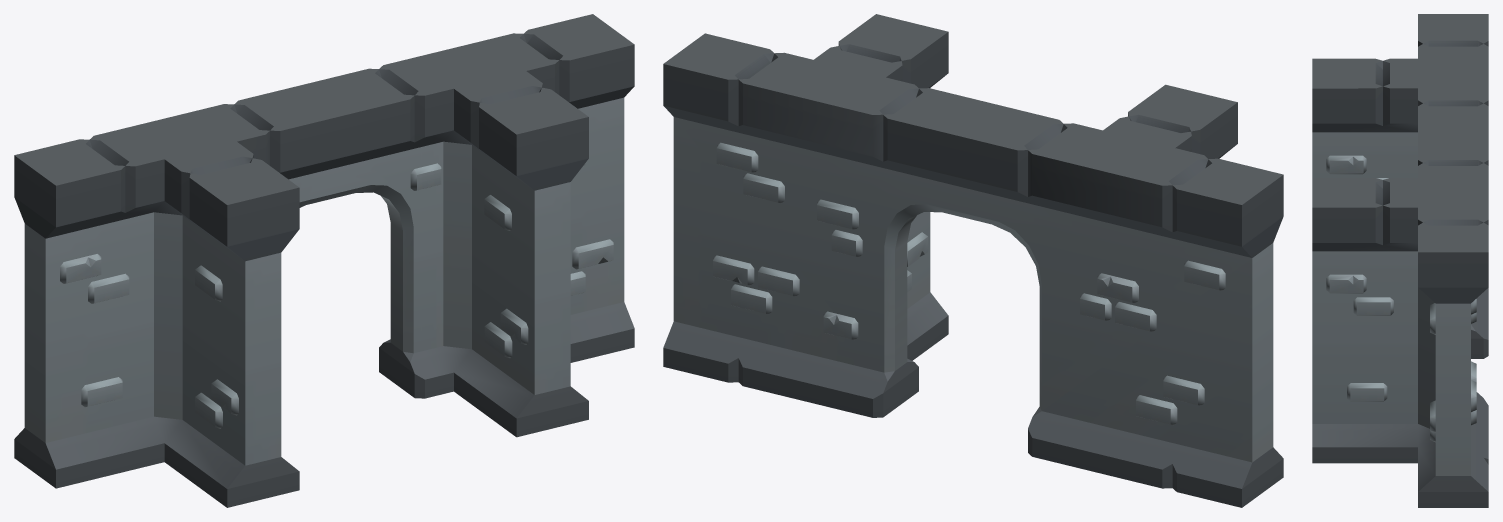
Rendered from kaykit-dungeon-remastered-wall-doorway-tsplit-gltf.glb.
3 views of the same model, side by side, from view 1: azimuth 30°, elevation 25°; view 2: azimuth 150°, elevation 25°; view 3: azimuth 270°, elevation 25° (orthographic). The views are drawn at different scales.
Parts seen in each view (by area): view 1: wall_doorway_Tsplit; view 2: wall_doorway_Tsplit; view 3: wall_doorway_Tsplit.
Boxes of the visible parts, <box> form: wall_doorway_Tsplit: <box>14,14,634,507</box>; wall_doorway_Tsplit: <box>663,14,1283,507</box>; wall_doorway_Tsplit: <box>1312,14,1488,507</box>.
Bounding box in the file's own units: 8 × 4 × 2.5.
Materials: 1 (1 with a texture image).
